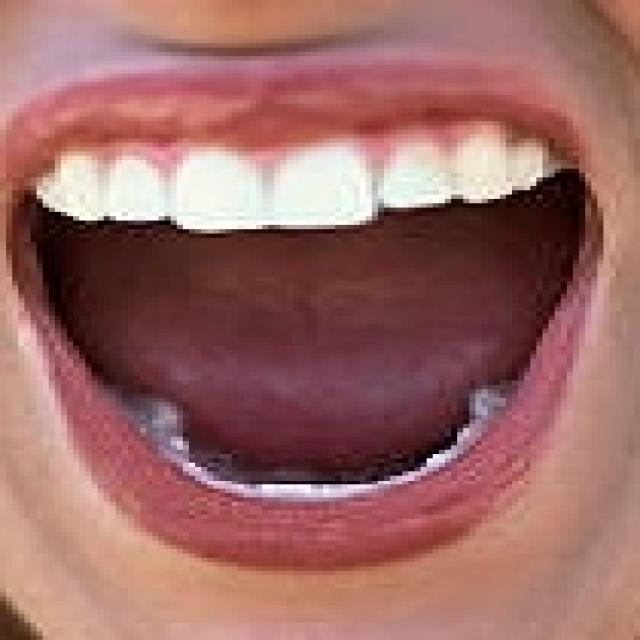open-mouth: (0, 48, 616, 566)
